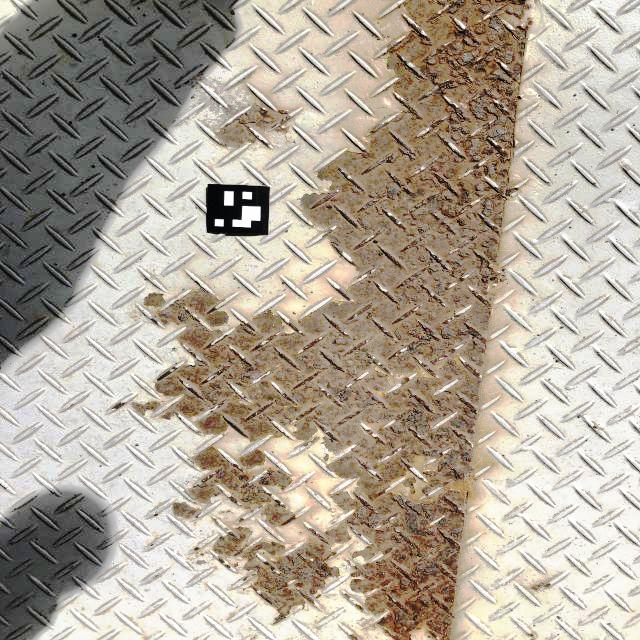Corrosion: (111, 0, 540, 640), (181, 445, 298, 536), (202, 96, 296, 151), (169, 500, 202, 521), (186, 546, 213, 567), (530, 582, 552, 592), (342, 593, 354, 603), (354, 603, 364, 611), (348, 634, 360, 640), (220, 509, 234, 514), (153, 572, 161, 579), (238, 517, 246, 523), (526, 632, 534, 637), (593, 424, 598, 429), (153, 513, 159, 517), (150, 543, 156, 547), (529, 638, 536, 640), (299, 531, 303, 534)
